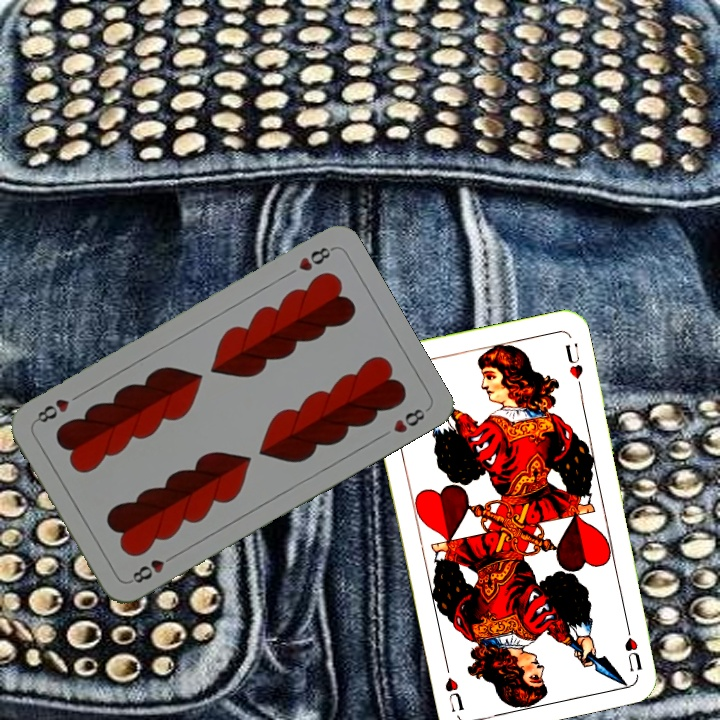H8: (125, 550, 179, 586), (294, 243, 336, 274)
HU: (620, 618, 645, 674)
